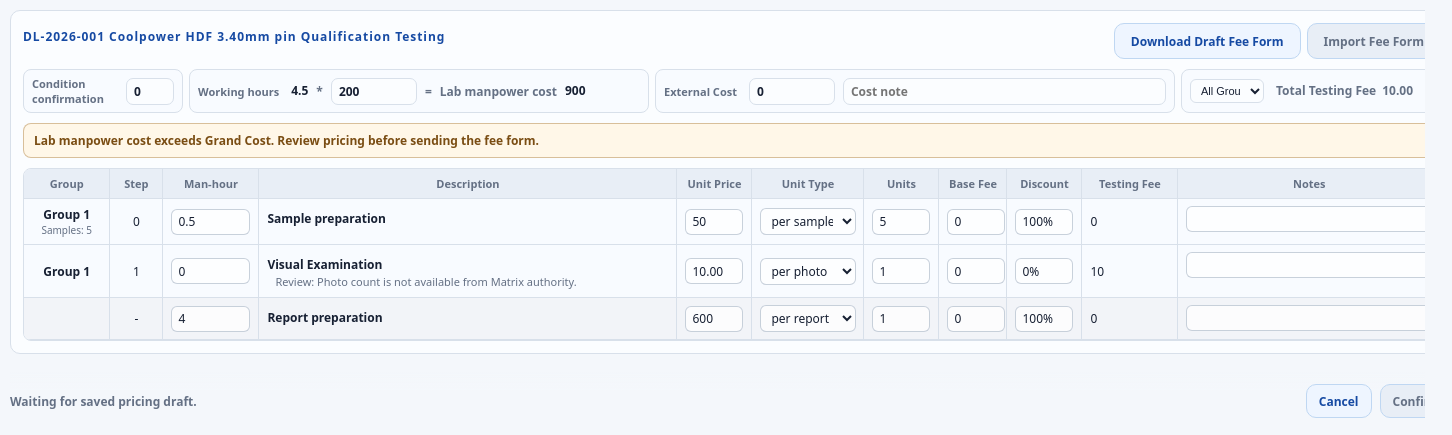
Scenario: FeeEvaluationReviewExportPage › autosaves current pricing draft edits through the pricing draft endpoint
This screenshot has width=1452, height=435.
Expected: the table named "Testing Prices preview rows" is shown, top-left (24, 169), bottom-right (1440, 340)
Replace the text in the field named "Unit Price for Visual Examination" with "12" at (714, 271), box top-left (686, 258), bottom-right (744, 284)
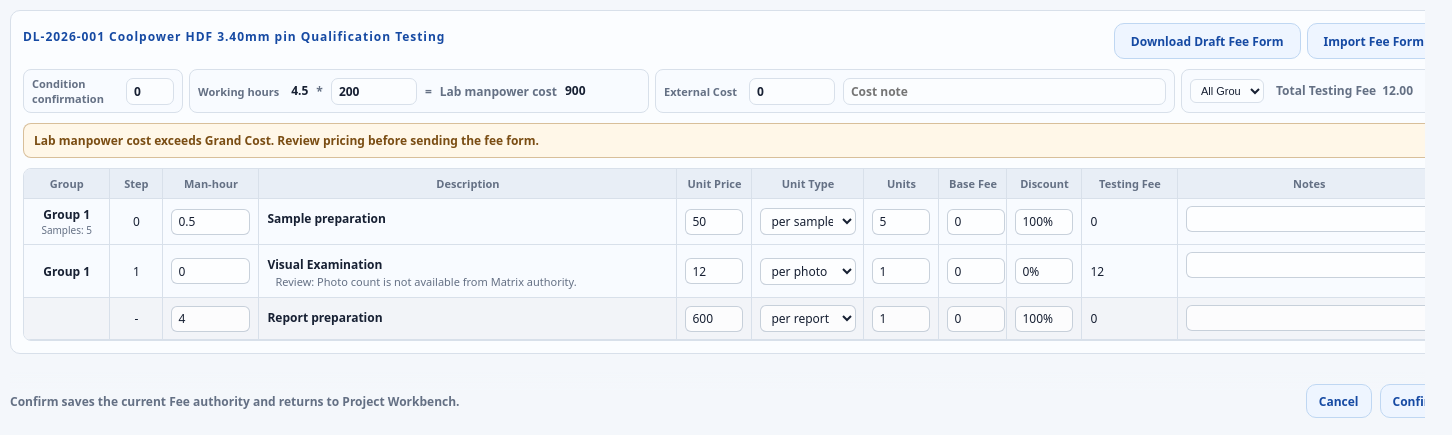
Expected: the text "saved pricing draft." is gone
